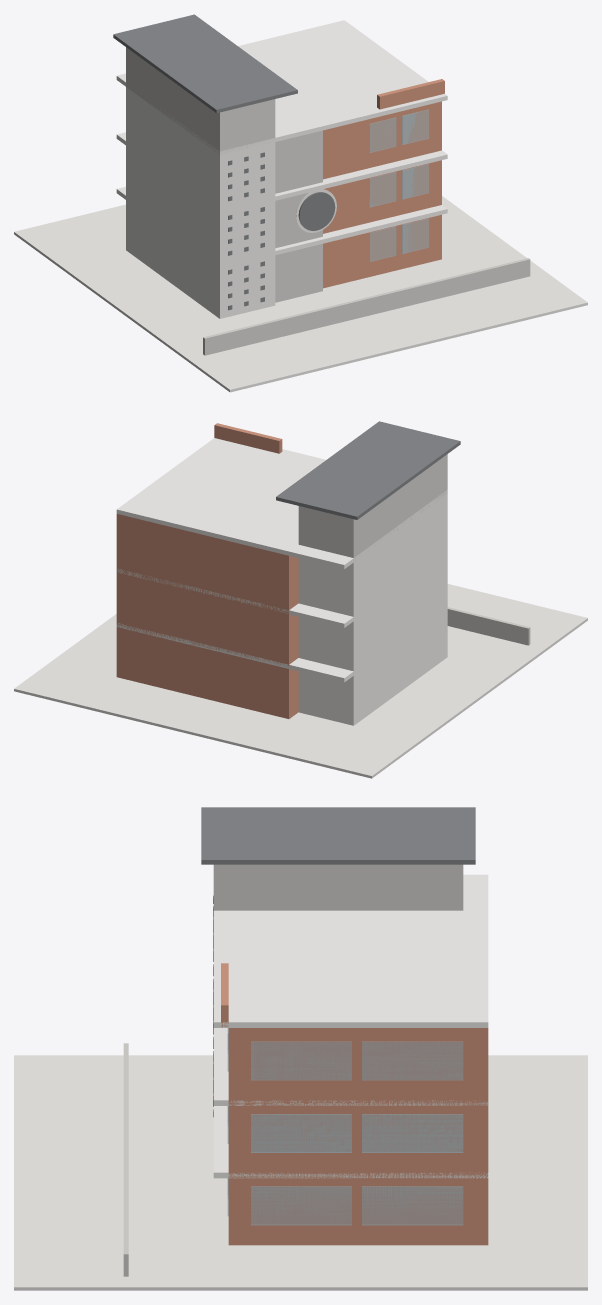
File: mrinal-anjana-residence.glb
The picture shows the model from 3 angles, top to bottom: view 1: azimuth 30°, elevation 25°; view 2: azimuth 150°, elevation 25°; view 3: azimuth 270°, elevation 25°; orthographic projection. The views are drawn at different scales.
Parts seen in each view (by area): view 1: site-site, roof-white, floor-1-white, floor-2-white, roof-dark, floor-0-white, site-grey, roof-grey, floor-2-brick, floor-0-brick, floor-1-brick, floor-2-grey (+7 smaller); view 2: site-site, roof-white, floor-2-brick, floor-1-brick, floor-0-brick, floor-2-white, floor-1-white, roof-dark, floor-0-white, roof-grey, site-grey, roof-brick; view 3: site-site, roof-white, floor-0-brick, floor-1-brick, floor-2-brick, roof-dark, roof-grey, floor-2-glass, floor-0-glass, floor-1-glass, floor-1-white, floor-2-white (+1 smaller).
Part boxes in pixels (<box>): site-site: <box>14,196,587,392</box>; roof-white: <box>116,20,447,155</box>; floor-1-white: <box>116,141,447,268</box>; floor-2-white: <box>116,87,447,212</box>; roof-dark: <box>113,14,297,113</box>; floor-0-white: <box>126,196,275,318</box>; site-grey: <box>203,258,530,355</box>; roof-grey: <box>126,47,275,155</box>; floor-2-brick: <box>323,101,441,179</box>; floor-0-brick: <box>323,214,441,288</box>; floor-1-brick: <box>323,160,441,233</box>; floor-2-grey: <box>275,130,322,193</box>; site-site: <box>14,584,587,778</box>; roof-white: <box>116,438,447,569</box>; floor-2-brick: <box>116,514,298,609</box>; floor-1-brick: <box>116,568,298,664</box>; floor-0-brick: <box>116,623,298,718</box>; floor-2-white: <box>117,494,447,627</box>; floor-1-white: <box>116,548,447,682</box>; roof-dark: <box>276,421,460,519</box>; floor-0-white: <box>298,603,447,725</box>; roof-grey: <box>298,454,447,560</box>; site-grey: <box>447,607,530,645</box>; roof-brick: <box>214,423,282,453</box>; site-site: <box>14,1055,587,1290</box>; roof-white: <box>213,874,488,1027</box>; floor-0-brick: <box>228,1172,488,1245</box>; floor-1-brick: <box>228,1100,488,1172</box>; floor-2-brick: <box>228,1028,488,1100</box>; roof-dark: <box>201,807,475,864</box>; roof-grey: <box>213,864,463,910</box>; floor-2-glass: <box>227,1028,463,1080</box>; floor-0-glass: <box>227,1178,463,1225</box>; floor-1-glass: <box>227,1106,463,1152</box>; floor-1-white: <box>213,1106,488,1178</box>; floor-2-white: <box>213,1028,487,1105</box>.
Size of the model in its own units: 22 by 12.75 by 23.
